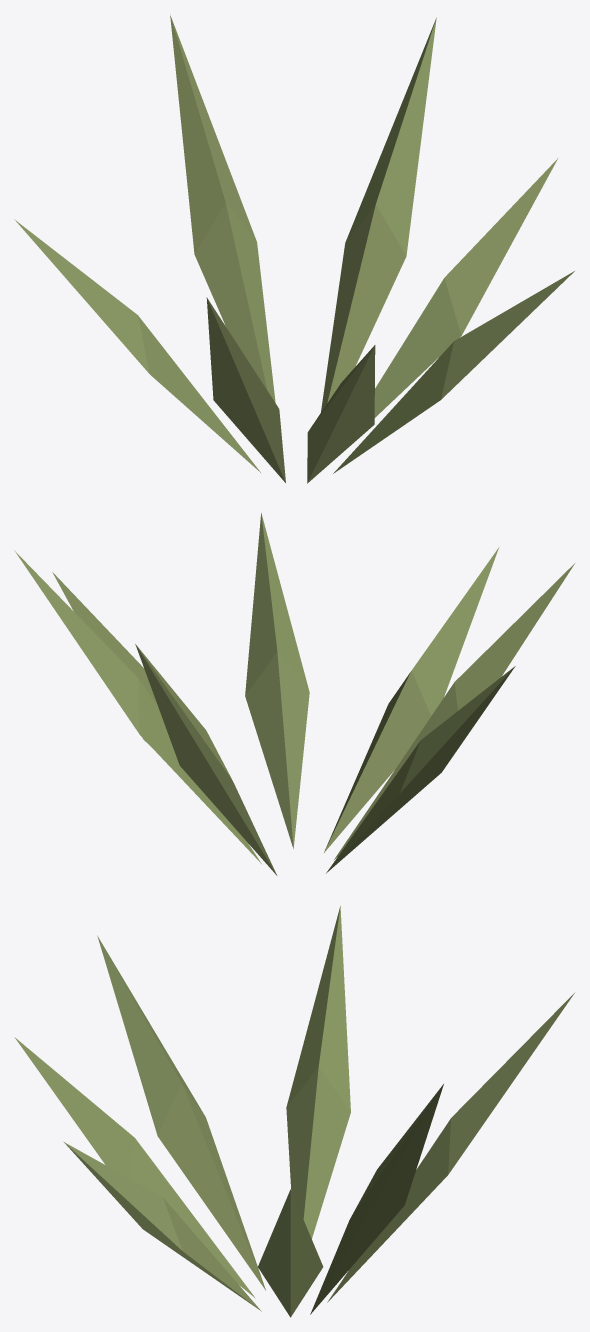
File: plant-grass.glb
The picture shows the model from 3 angles, top to bottom: view 1: azimuth 30°, elevation 25°; view 2: azimuth 150°, elevation 25°; view 3: azimuth 270°, elevation 25°; orthographic projection. The views are drawn at different scales.
Visible parts, largest first — view 1: plant-grass; view 2: plant-grass; view 3: plant-grass.
Part boxes in pixels (x1=…): plant-grass: x1=14, y1=14, x2=574, y2=483; plant-grass: x1=14, y1=513, x2=574, y2=875; plant-grass: x1=14, y1=905, x2=574, y2=1317.
Size of the model in its own units: 0.9527 by 0.5952 by 0.9417.
